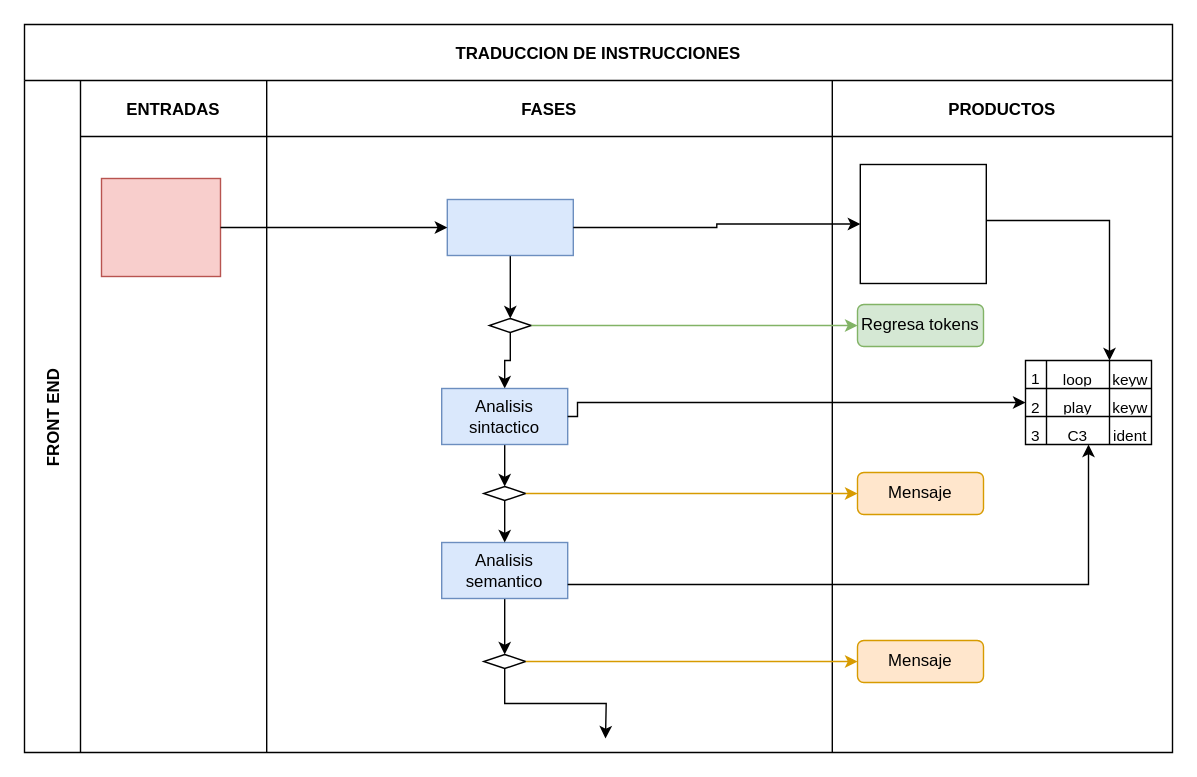
Image size: 1197x777. Some labels were removed from this diagram. The shapes that lost their labels are listed below. From the top down, each one's box as (x1, y1, x2, y2) in pixels, then its label:
(100, 177, 220, 276): loop play C3 end
(446, 198, 573, 255): Analisis lexico
(859, 163, 986, 284): (id=1) loop (id=2) play (id=3) C3 (id=4) end
